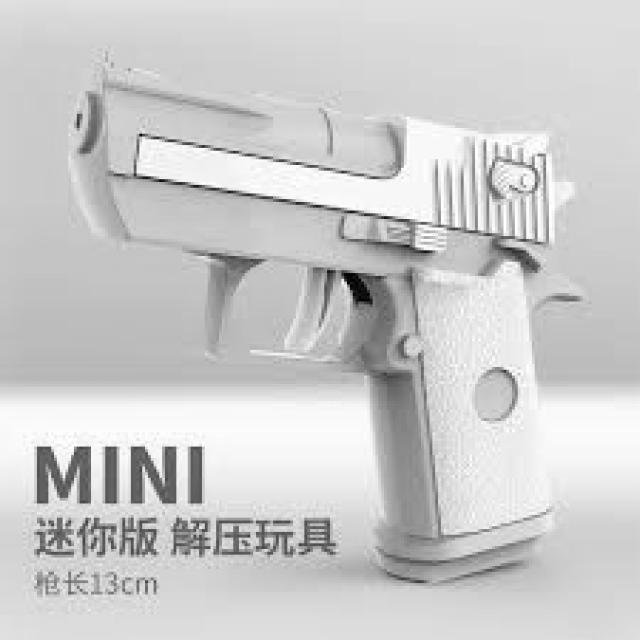gun: (65, 48, 586, 583)
